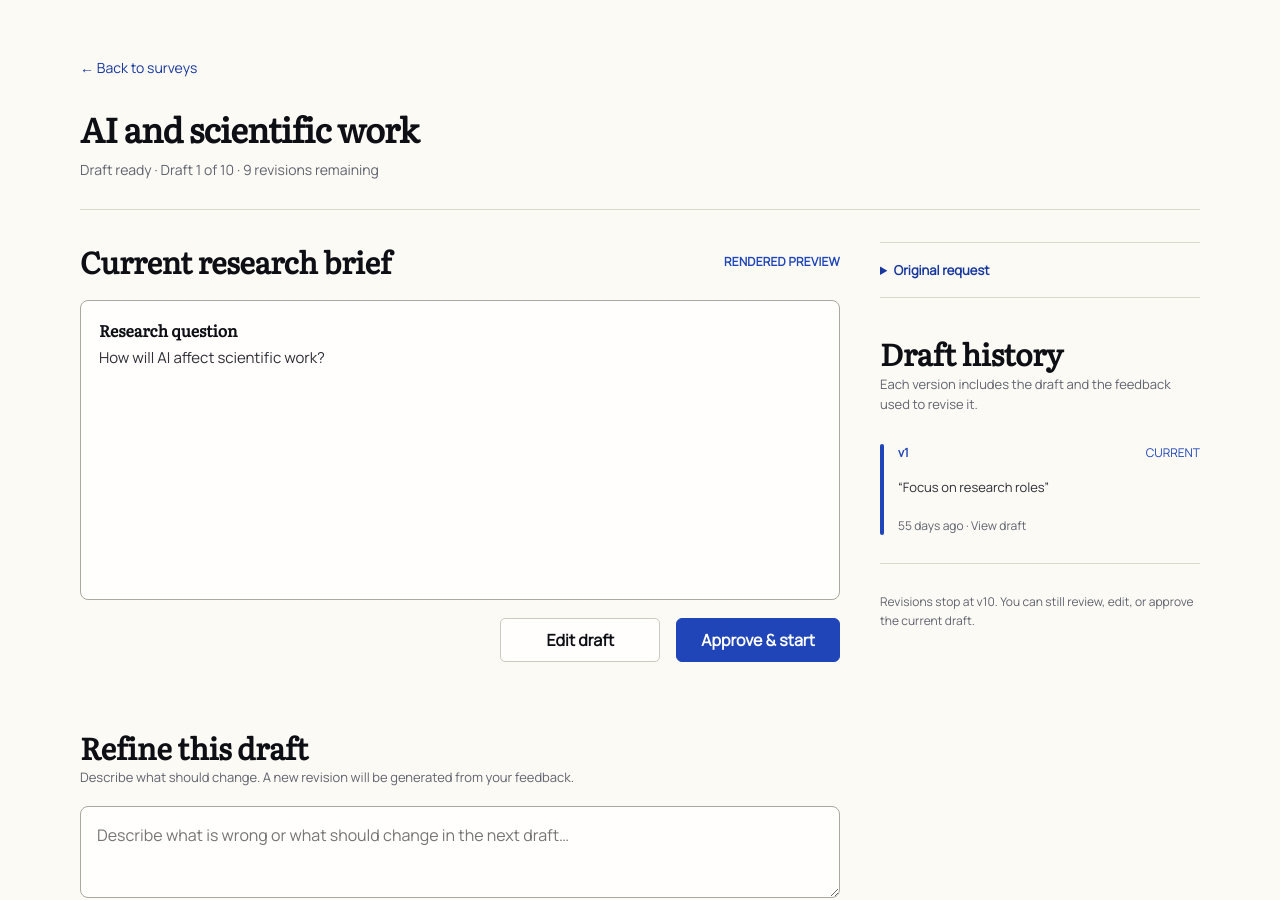
Test: SurveyDraftPage › keeps draft history visible and discards local edits on Cancel
This screenshot has width=1280, height=900.
Check: the heading "Draft history" is shown, box [880, 331, 1063, 375]
Click the button "Edit draft": (580, 640) [500, 618, 660, 662]
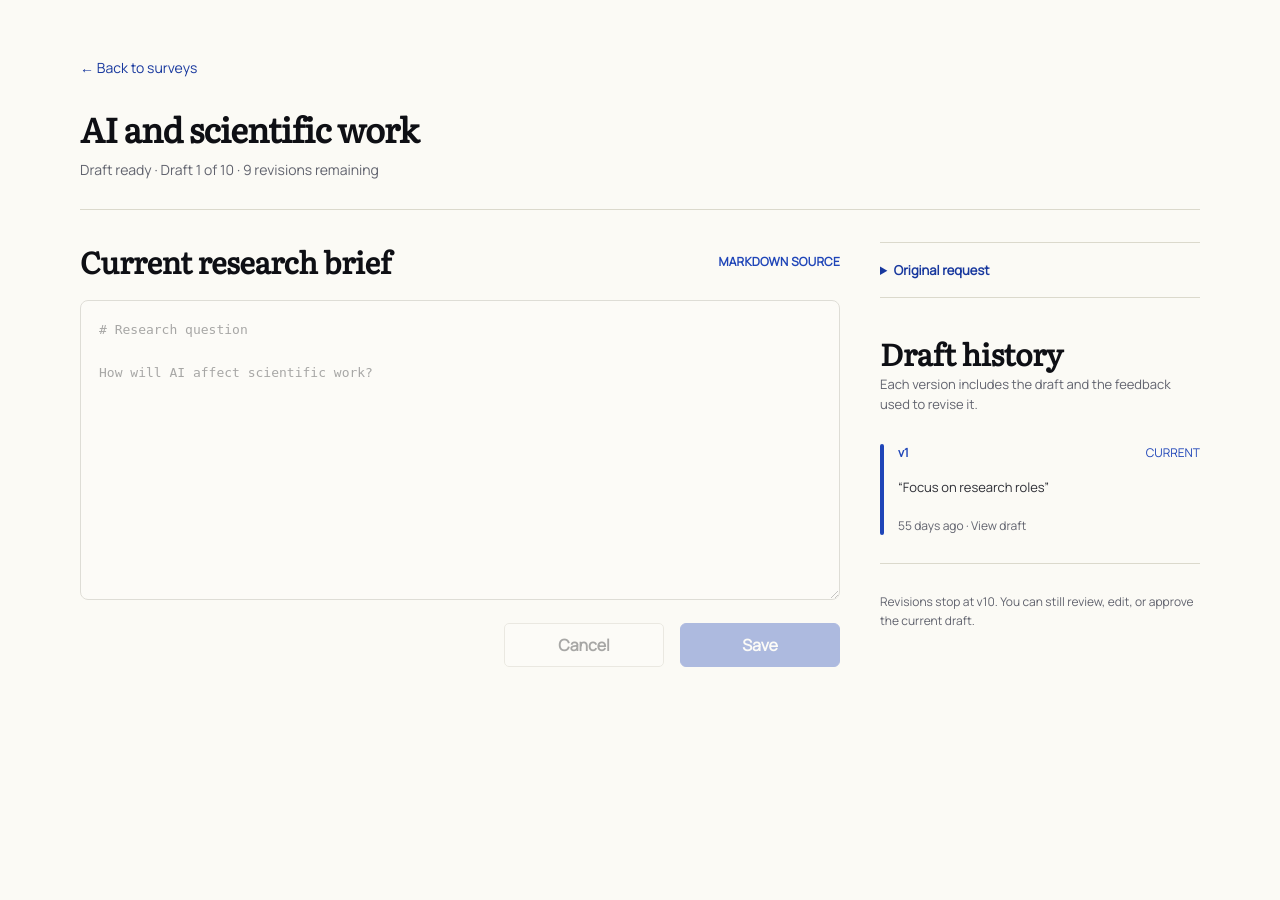
Replace the text in the text box named "Markdown source" with "# Changed": (460, 450) [80, 300, 840, 600]
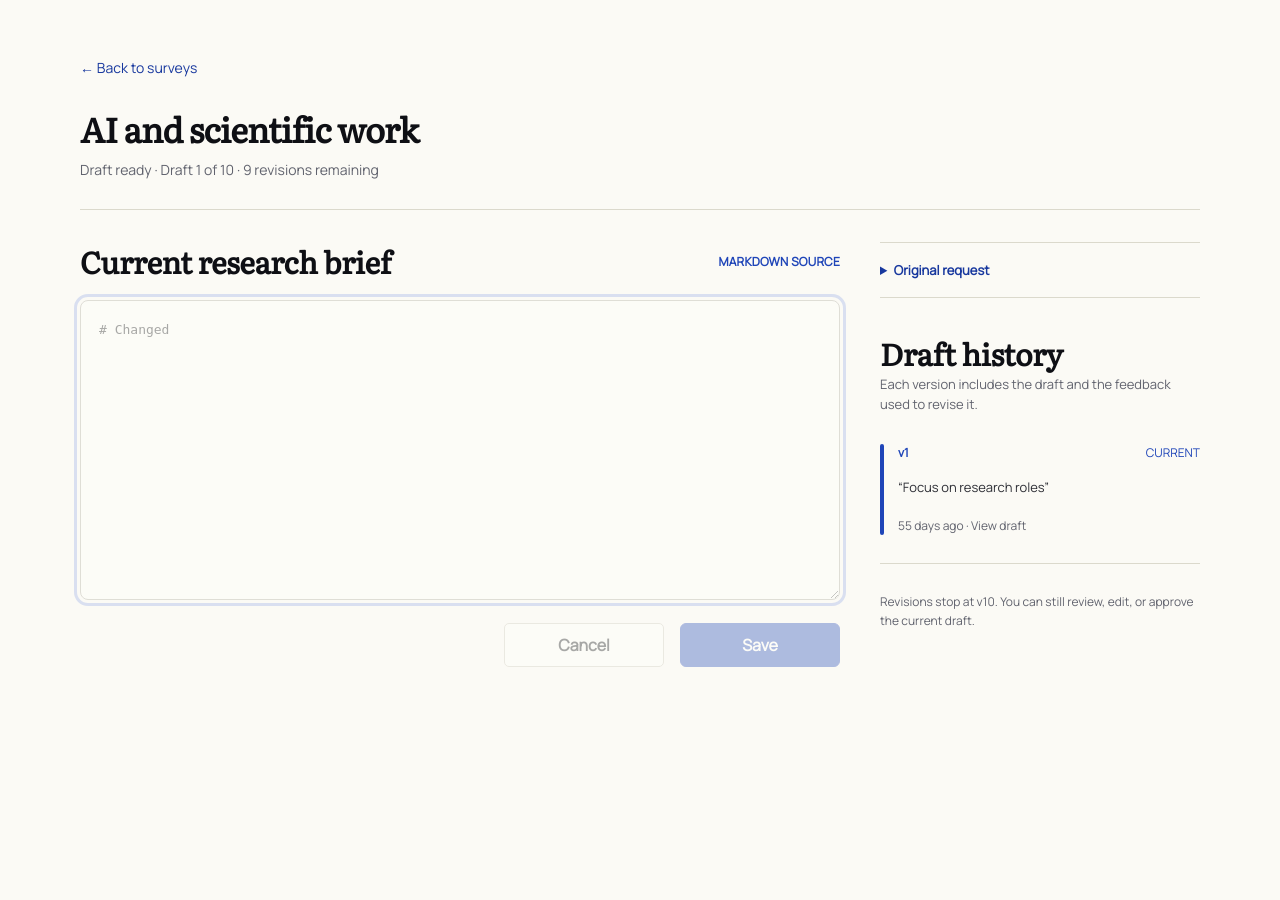
Click the button "Cancel": (584, 645) [504, 623, 664, 667]
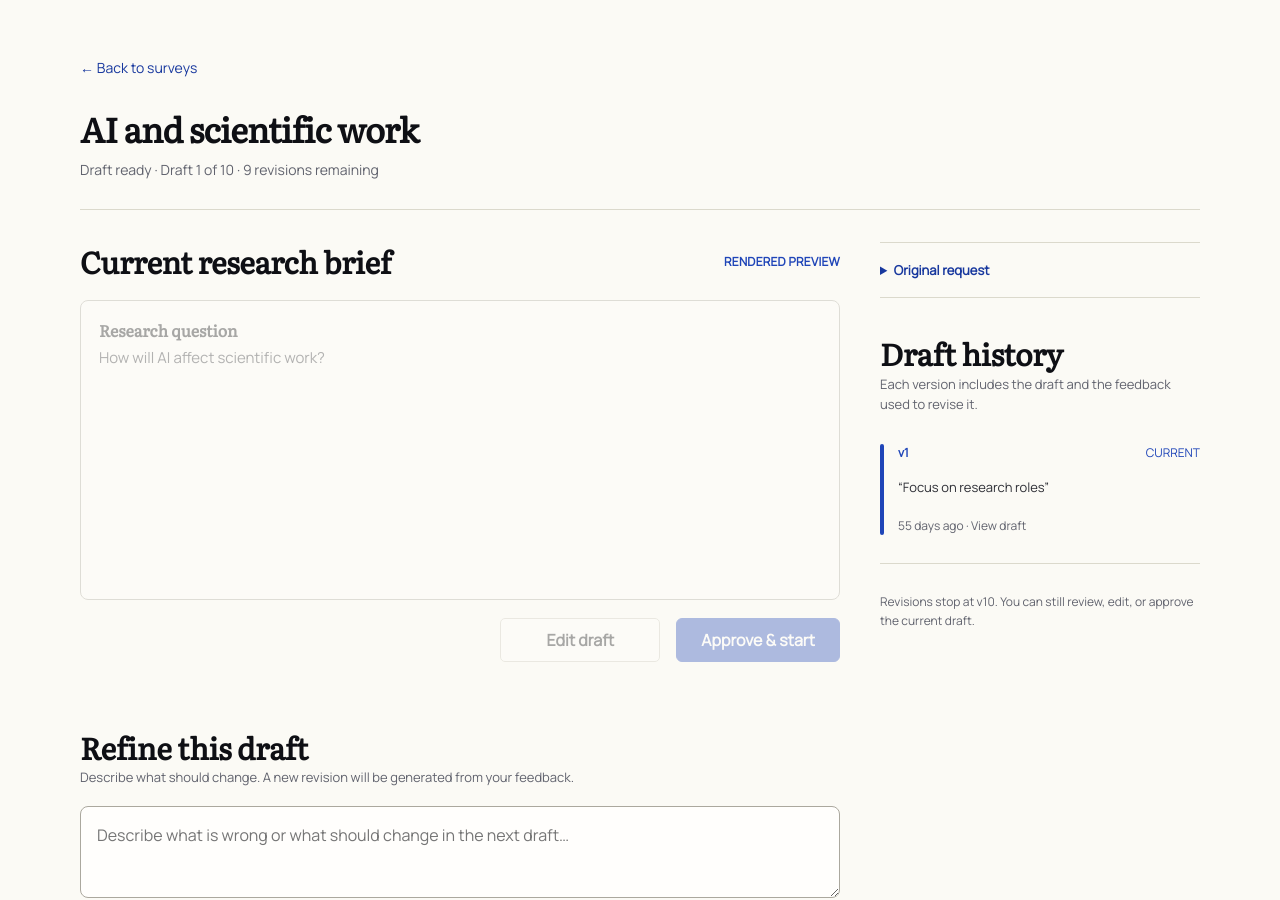
Check: the heading "Research question" is shown, box [99, 318, 238, 342]
